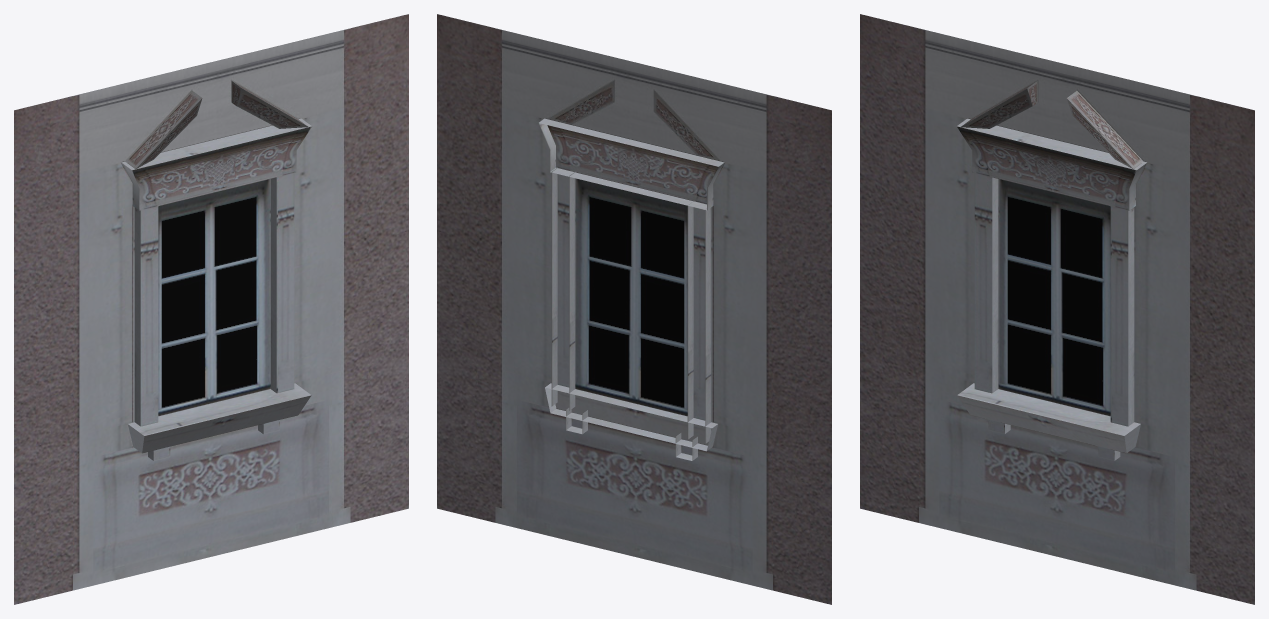
The model's file is win2.obj.
3 views of the same model, side by side, from view 1: azimuth 30°, elevation 25°; view 2: azimuth 150°, elevation 25°; view 3: azimuth 330°, elevation 25° (orthographic).
Parts seen in each view (by area): view 1: polySurface135; view 2: polySurface135; view 3: polySurface135.
Part boxes in pixels (x1,y1,x2,y2): polySurface135: (14, 14, 408, 604); polySurface135: (437, 14, 831, 604); polySurface135: (860, 14, 1254, 604).
Bounding box in the file's own units: 1 × 1.2 × 0.0995.
1 material, 1 textured.
